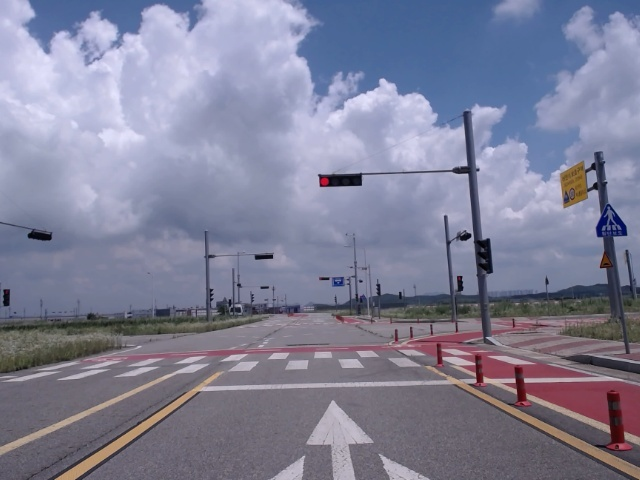red_4: (319, 176, 362, 187)
